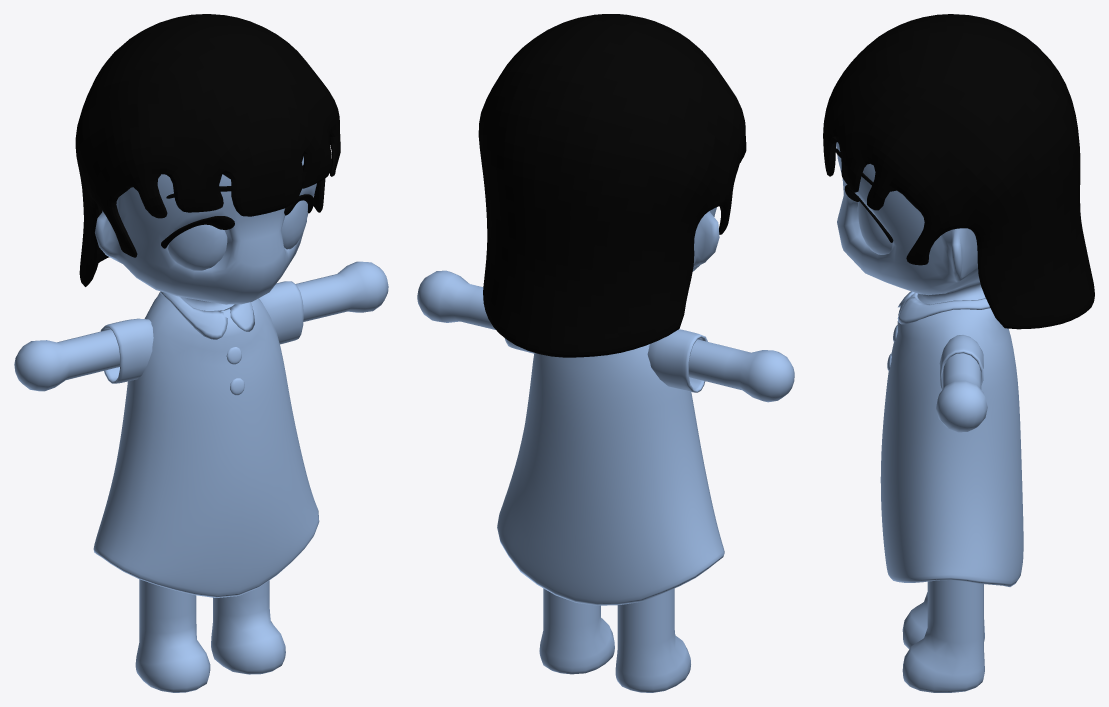
Rendered from ARYA.fbx.
3 renders of one model, left to right at view 1: azimuth 30°, elevation 25°; view 2: azimuth 150°, elevation 25°; view 3: azimuth 270°, elevation 25°, orthographic.
Parts seen in each view (by area): view 1: LP_DRESS.002, lp_HAIR, LP_base.003, LP_EYE.003, LP_EyeLeash.003; view 2: lp_HAIR, LP_DRESS.002, LP_base.003; view 3: lp_HAIR, LP_DRESS.002, LP_base.003, LP_EYE.003.
Boxes of the visible parts, x1,y1,x2,y2 form: LP_DRESS.002: [93, 281, 319, 597]; lp_HAIR: [75, 14, 340, 286]; LP_base.003: [14, 156, 388, 692]; LP_EYE.003: [168, 200, 307, 270]; LP_EyeLeash.003: [161, 165, 313, 248]; lp_HAIR: [478, 14, 746, 357]; LP_DRESS.002: [497, 329, 724, 605]; LP_base.003: [417, 207, 794, 692]; lp_HAIR: [823, 14, 1094, 329]; LP_DRESS.002: [880, 291, 1023, 586]; LP_base.003: [836, 142, 987, 692]; LP_EYE.003: [857, 201, 892, 254].
Size of the model in its own units: 340 by 565 by 219.
